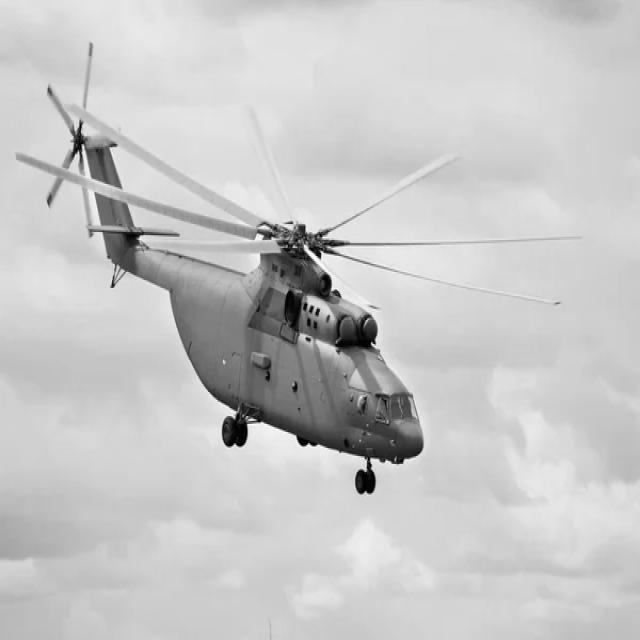Helicopter: (15, 87, 518, 494)
